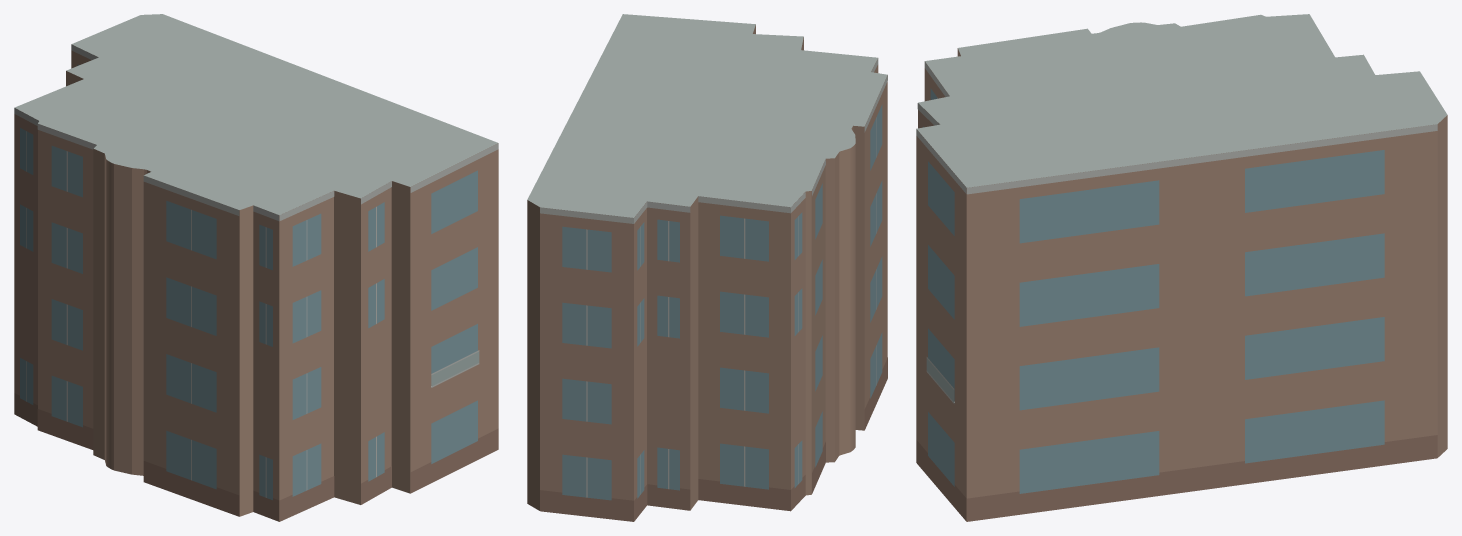
File: survey-upis-32683740.glb
3 views of the same model, side by side, from view 1: azimuth 30°, elevation 25°; view 2: azimuth 150°, elevation 25°; view 3: azimuth 270°, elevation 25° (orthographic). The views are drawn at different scales.
Visible parts, largest first — view 1: survey-upis-32683740.tmp; view 2: survey-upis-32683740.tmp; view 3: survey-upis-32683740.tmp.
Part boxes in pixels (x1,y1,x2,y2): survey-upis-32683740.tmp: (14,14,498,521); survey-upis-32683740.tmp: (527,14,887,521); survey-upis-32683740.tmp: (916,14,1447,521).
Size of the model in its own units: 13.62 by 12.2 by 17.59.
